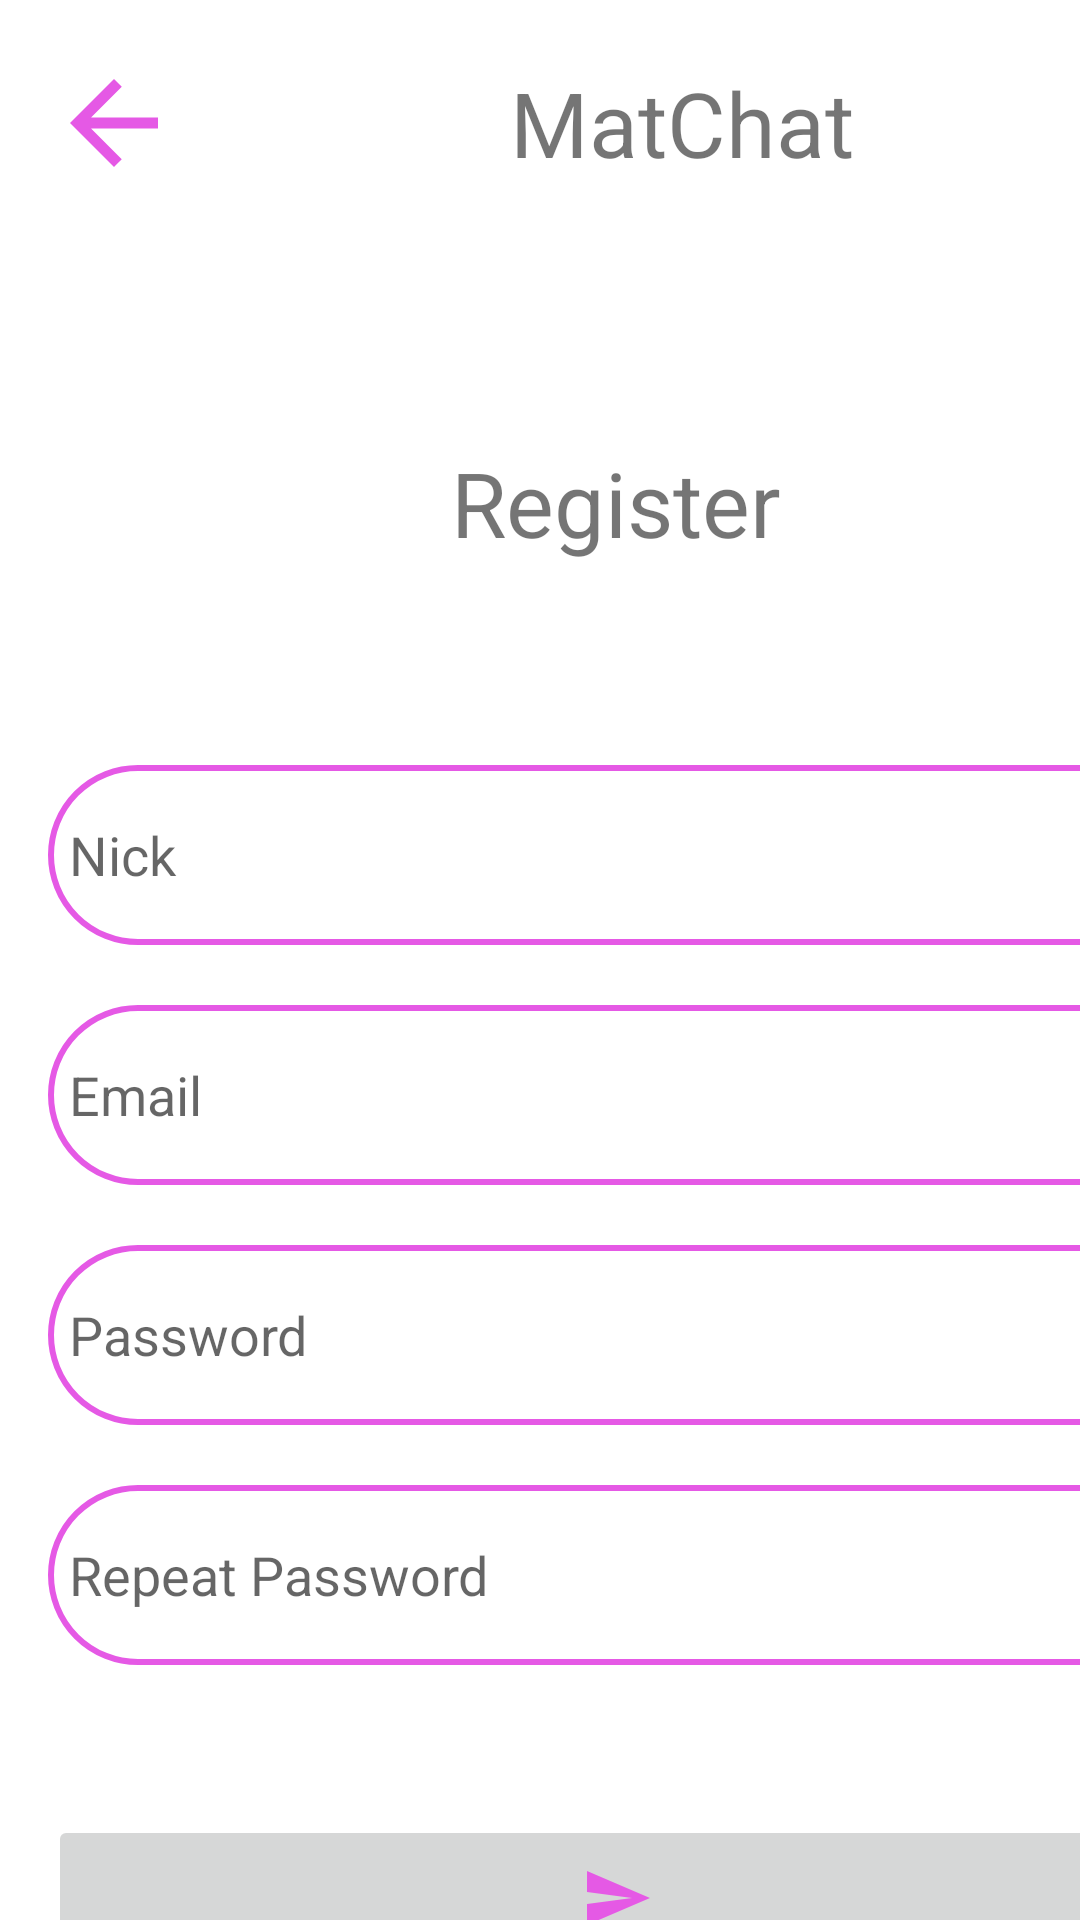

Icons on this 1080px×1920px Android screen, each with its box as {"x1": x1, "y1": y1, "x2": x2, "y2": y2}:
arrow back: {"x1": 70, "y1": 79, "x2": 158, "y2": 167}
